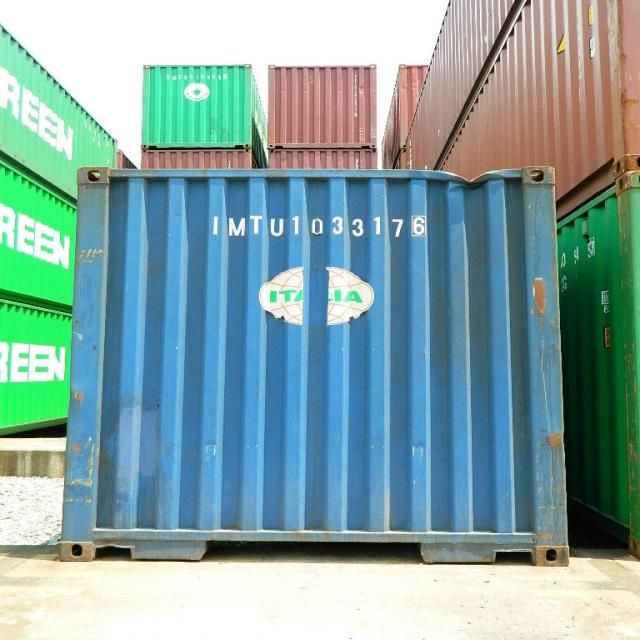dent: (416, 167, 523, 191), (200, 435, 225, 473), (411, 442, 434, 464), (96, 542, 135, 552)
